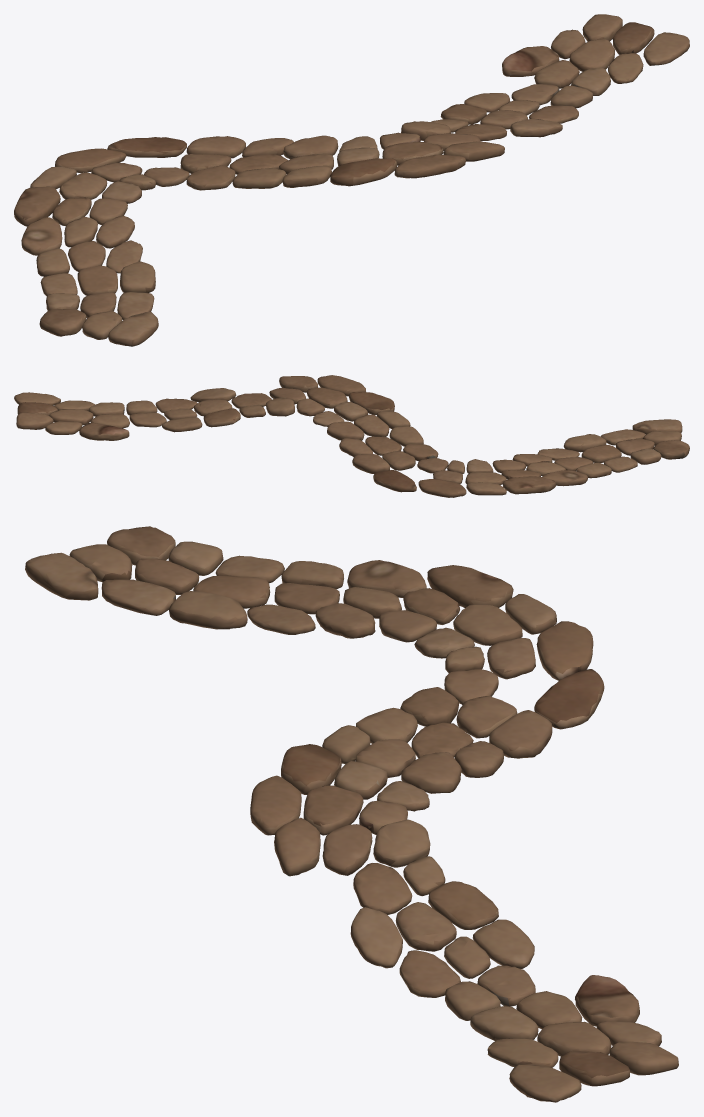
The model's file is path_stone_procedural.glb.
3 renders of one model, top to bottom at view 1: azimuth 30°, elevation 25°; view 2: azimuth 150°, elevation 25°; view 3: azimuth 270°, elevation 25°, orthographic. The views are drawn at different scales.
Parts seen in each view (by area): view 1: ProceduralPath; view 2: ProceduralPath; view 3: ProceduralPath.
Part boxes in pixels (box(x1,y1,x2,y2)): ProceduralPath: box(14, 14, 689, 346); ProceduralPath: box(14, 375, 689, 497); ProceduralPath: box(25, 526, 678, 1102).
Size of the model in its own units: 9.93 by 0.5476 by 4.94.
1 material, 1 textured.
